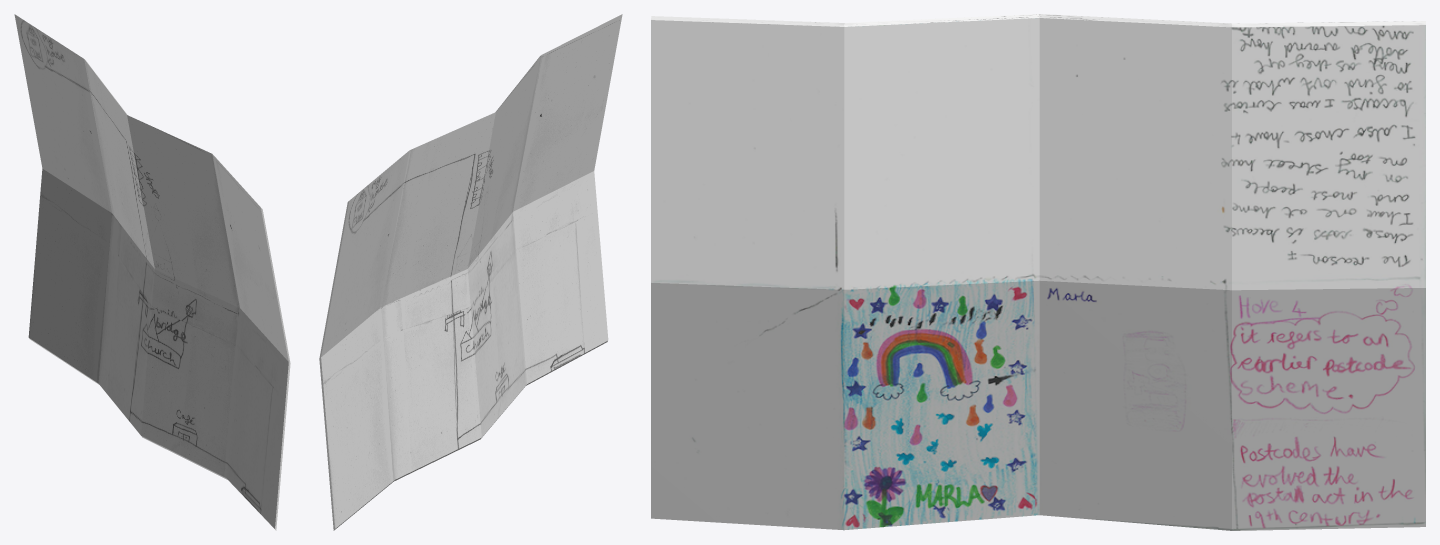
The model's file is letter.gltf.
The picture shows the model from 3 angles, left to right: view 1: azimuth 30°, elevation 25°; view 2: azimuth 150°, elevation 25°; view 3: azimuth 270°, elevation 25°; orthographic projection. The views are drawn at different scales.
Visible parts, largest first — view 1: letter_recto; view 2: letter_recto; view 3: letter_recto.
Boxes of the visible parts, box(x1,y1,x2,y2) form: letter_recto: box(14, 14, 290, 530); letter_recto: box(319, 14, 622, 530); letter_recto: box(651, 14, 1425, 530).
Bounding box in the file's own units: 0.0364 × 0.2261 × 0.3202.
Materials: 2 (2 with a texture image).
